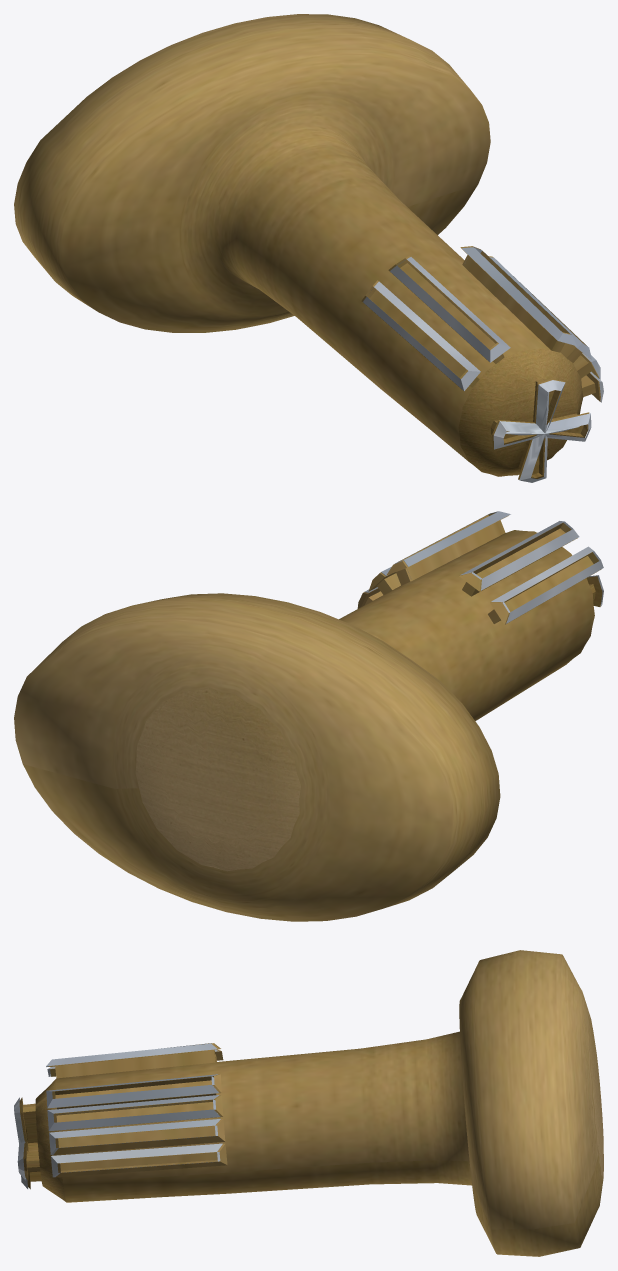
Rendered from Music Box Key.FBX.
The picture shows the model from 3 angles, top to bottom: view 1: azimuth 30°, elevation 25°; view 2: azimuth 150°, elevation 25°; view 3: azimuth 270°, elevation 25°; orthographic projection. The views are drawn at different scales.
Visible parts, largest first — view 1: Key, Key Teeth; view 2: Key, Key Teeth; view 3: Key, Key Teeth.
Part boxes in pixels (<box>): Key: <box>14,14,600,479</box>; Key Teeth: <box>363,247,603,482</box>; Key: <box>14,513,602,921</box>; Key Teeth: <box>364,511,603,623</box>; Key: <box>19,950,603,1256</box>; Key Teeth: <box>14,1043,222,1189</box>.
Bounding box in the file's own units: 0.6885 × 0.4244 × 0.9273.
Materials: 2 (2 with a texture image).
